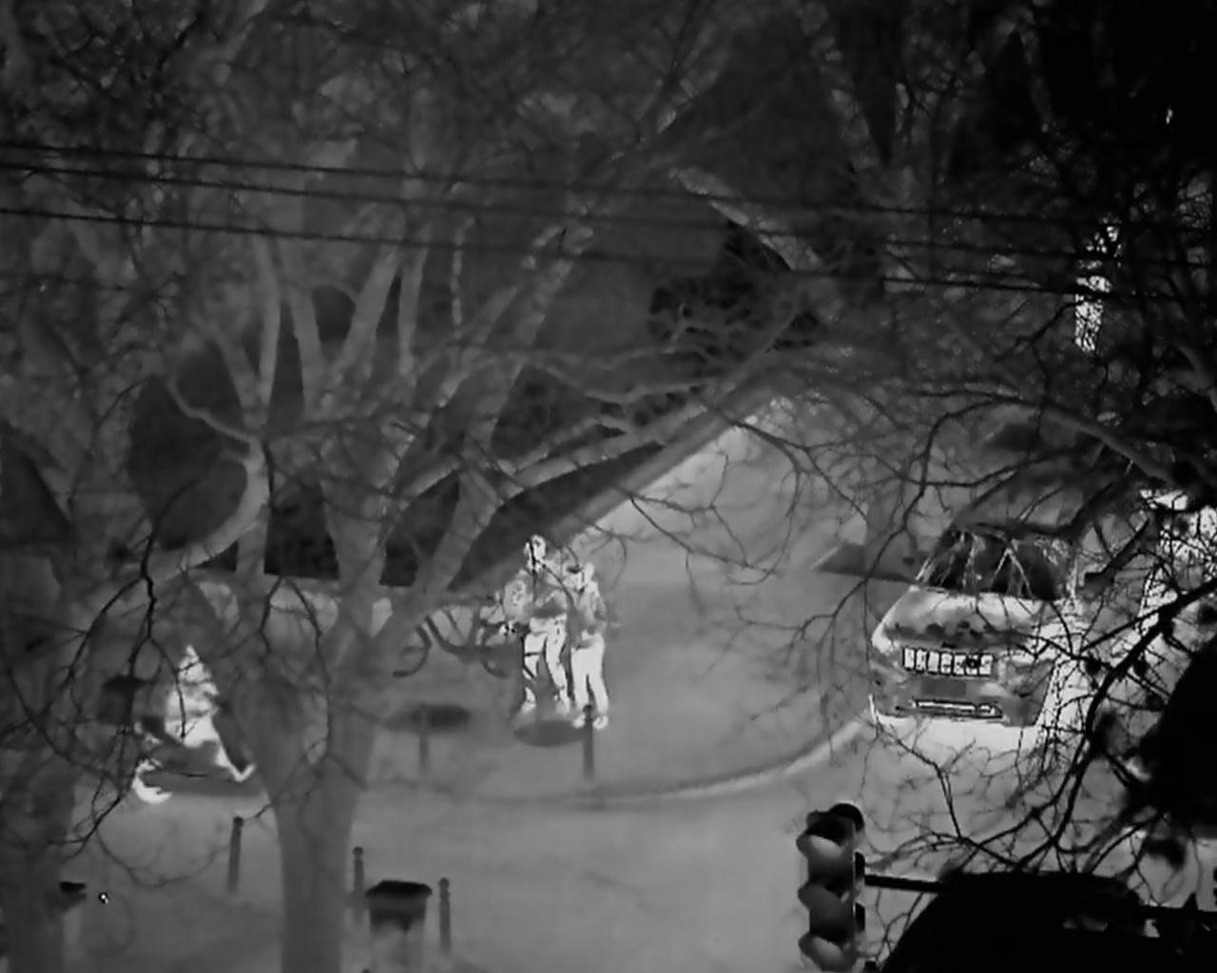person: (164, 645, 256, 785), (512, 534, 570, 714), (565, 562, 611, 731)
